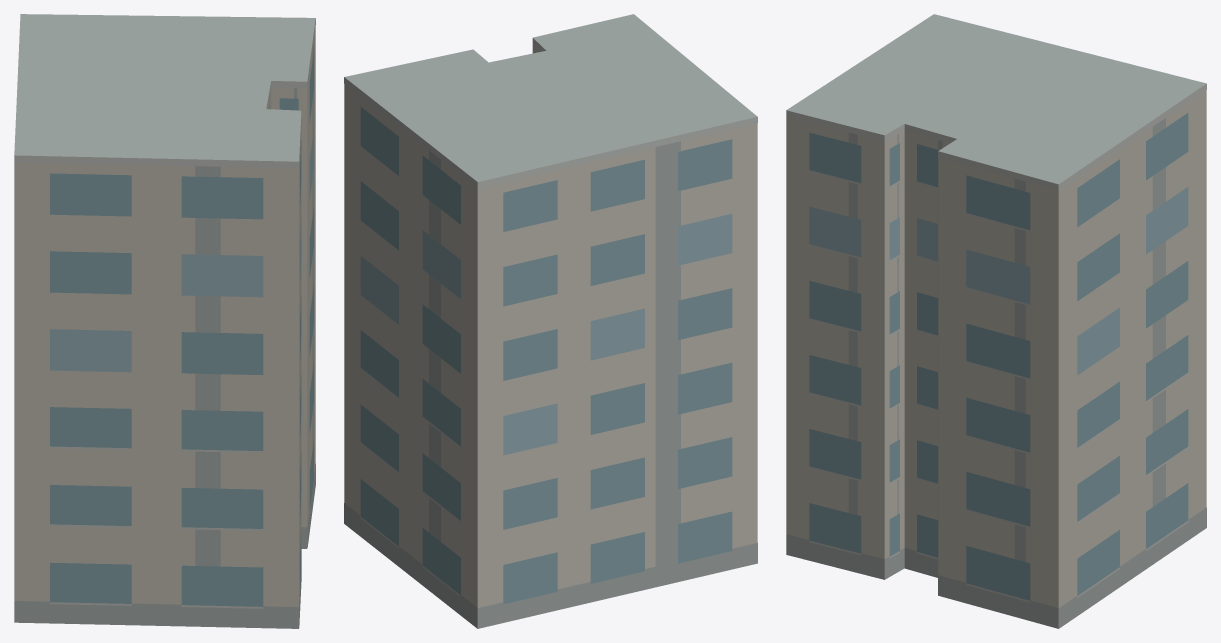
Rendered from survey-upis-32767363.glb.
3 renders of one model, left to right at view 1: azimuth 30°, elevation 25°; view 2: azimuth 150°, elevation 25°; view 3: azimuth 270°, elevation 25°, orthographic. The views are drawn at different scales.
Parts seen in each view (by area): view 1: survey-upis-32767363.tmp; view 2: survey-upis-32767363.tmp; view 3: survey-upis-32767363.tmp.
Part boxes in pixels (bbox=[...]): survey-upis-32767363.tmp: bbox=[14, 14, 315, 628]; survey-upis-32767363.tmp: bbox=[344, 14, 757, 628]; survey-upis-32767363.tmp: bbox=[786, 14, 1206, 628].
Bounding box in the file's own units: 13.82 × 16.8 × 14.41.
